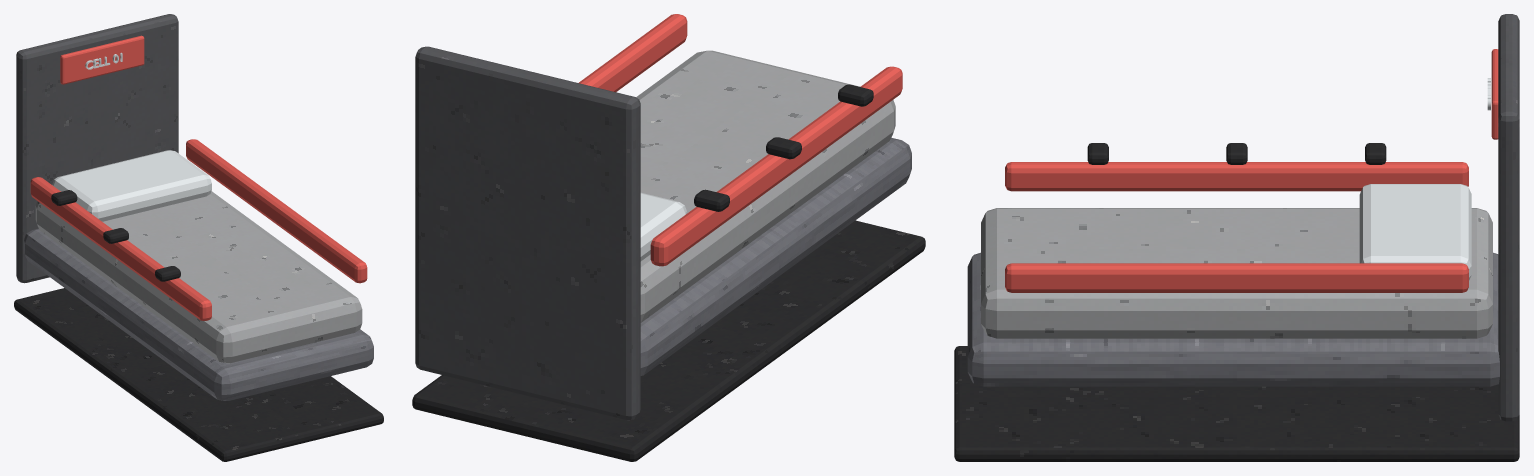
File: decor_sec_brig_bunk.glb
3 renders of one model, left to right at view 1: azimuth 30°, elevation 25°; view 2: azimuth 150°, elevation 25°; view 3: azimuth 270°, elevation 25°, orthographic. The views are drawn at different scales.
Parts seen in each view (by area): view 1: DEC_SecBrigBunk__Mattress, DEC_SecBrigBunk__Privacy_Panel, DEC_SecBrigBunk__Floor_Plate, DEC_SecBrigBunk__Frame, DEC_SecBrigBunk__Pillow, DEC_SecBrigBunk__Restraint_Rail_R, DEC_SecBrigBunk__Restraint_Rail_L, DEC_SecBrigBunk__Cell_Plate; view 2: DEC_SecBrigBunk__Privacy_Panel, DEC_SecBrigBunk__Mattress, DEC_SecBrigBunk__Floor_Plate, DEC_SecBrigBunk__Frame, DEC_SecBrigBunk__Restraint_Rail_L, DEC_SecBrigBunk__Restraint_Rail_R, DEC_SecBrigBunk__Pillow, DEC_SecBrigBunk__Restraint_Loop_1, DEC_SecBrigBunk__Restraint_Loop_3, DEC_SecBrigBunk__Restraint_Loop_2; view 3: DEC_SecBrigBunk__Mattress, DEC_SecBrigBunk__Floor_Plate, DEC_SecBrigBunk__Frame, DEC_SecBrigBunk__Restraint_Rail_R, DEC_SecBrigBunk__Restraint_Rail_L, DEC_SecBrigBunk__Pillow, DEC_SecBrigBunk__Privacy_Panel, DEC_SecBrigBunk__Cell_Plate.
Boxes of the visible parts, box(x1,y1,x2,y2) form: DEC_SecBrigBunk__Mattress: box(35, 191, 362, 363); DEC_SecBrigBunk__Privacy_Panel: box(16, 14, 178, 283); DEC_SecBrigBunk__Floor_Plate: box(14, 288, 383, 461); DEC_SecBrigBunk__Frame: box(24, 228, 373, 400); DEC_SecBrigBunk__Pillow: box(52, 150, 211, 221); DEC_SecBrigBunk__Restraint_Rail_R: box(186, 139, 367, 283); DEC_SecBrigBunk__Restraint_Rail_L: box(30, 177, 211, 320); DEC_SecBrigBunk__Cell_Plate: box(60, 35, 144, 84); DEC_SecBrigBunk__Privacy_Panel: box(415, 46, 640, 420); DEC_SecBrigBunk__Mattress: box(636, 50, 895, 322); DEC_SecBrigBunk__Floor_Plate: box(412, 220, 925, 461); DEC_SecBrigBunk__Frame: box(640, 137, 911, 375); DEC_SecBrigBunk__Restraint_Rail_L: box(650, 66, 902, 266); DEC_SecBrigBunk__Restraint_Rail_R: box(579, 14, 687, 92); DEC_SecBrigBunk__Pillow: box(640, 192, 686, 261); DEC_SecBrigBunk__Restraint_Loop_1: box(838, 84, 873, 106); DEC_SecBrigBunk__Restraint_Loop_3: box(694, 189, 729, 211); DEC_SecBrigBunk__Restraint_Loop_2: box(766, 137, 801, 159); DEC_SecBrigBunk__Mattress: box(981, 208, 1492, 338); DEC_SecBrigBunk__Floor_Plate: box(954, 346, 1519, 461); DEC_SecBrigBunk__Frame: box(967, 252, 1499, 386); DEC_SecBrigBunk__Restraint_Rail_R: box(1005, 263, 1468, 292); DEC_SecBrigBunk__Restraint_Rail_L: box(1005, 162, 1468, 191); DEC_SecBrigBunk__Pillow: box(1359, 184, 1471, 280); DEC_SecBrigBunk__Privacy_Panel: box(1498, 14, 1519, 421); DEC_SecBrigBunk__Cell_Plate: box(1491, 49, 1498, 139).
Bounding box in the file's own units: 1.02 × 1.44 × 2.12.
6 materials, 4 textured.
